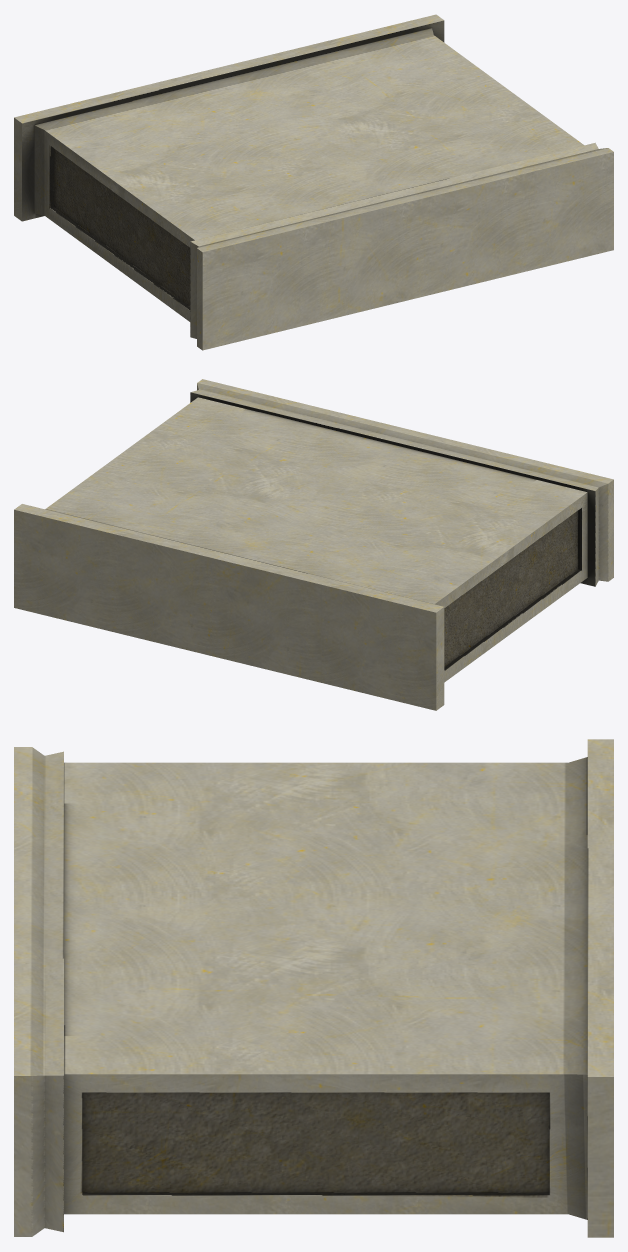
Rendered from Bookshelf_HalfHeight.fbx.
The picture shows the model from 3 angles, top to bottom: view 1: azimuth 30°, elevation 25°; view 2: azimuth 150°, elevation 25°; view 3: azimuth 270°, elevation 25°; orthographic projection. The views are drawn at different scales.
Visible parts, largest first — view 1: bookshelf_halfheight; view 2: bookshelf_halfheight; view 3: bookshelf_halfheight.
Boxes of the visible parts, x1=… form: bookshelf_halfheight: x1=14, y1=14, x2=613, y2=350; bookshelf_halfheight: x1=14, y1=379, x2=613, y2=710; bookshelf_halfheight: x1=14, y1=739, x2=613, y2=1237.
Size of the model in its own units: 2.22 by 0.5037 by 1.67.
